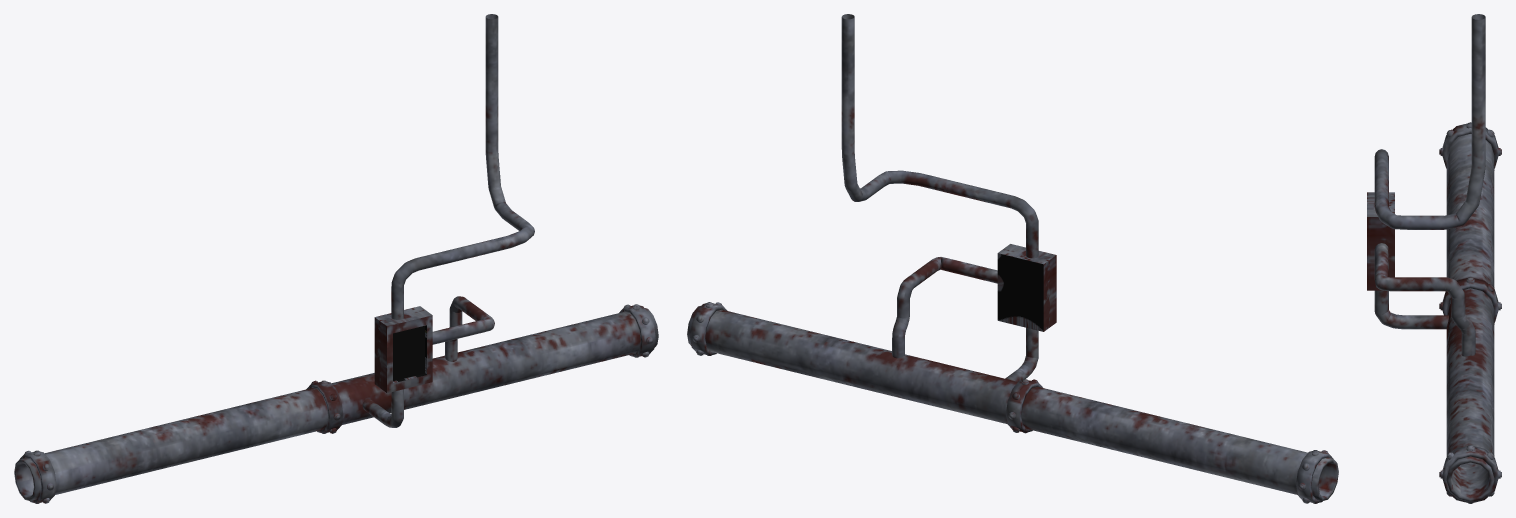
File: large pipe with extras.fbx
The picture shows the model from 3 angles, left to right: view 1: azimuth 30°, elevation 25°; view 2: azimuth 150°, elevation 25°; view 3: azimuth 270°, elevation 25°; orthographic projection. The views are drawn at different scales.
Visible parts, largest first — view 1: Cube; view 2: Cube; view 3: Cube.
Part boxes in pixels (x1,y1,x2,y2): Cube: (14, 14, 658, 503); Cube: (687, 14, 1338, 503); Cube: (1367, 14, 1501, 503).
Bounding box in the file's own units: 1478 × 843 × 251.
